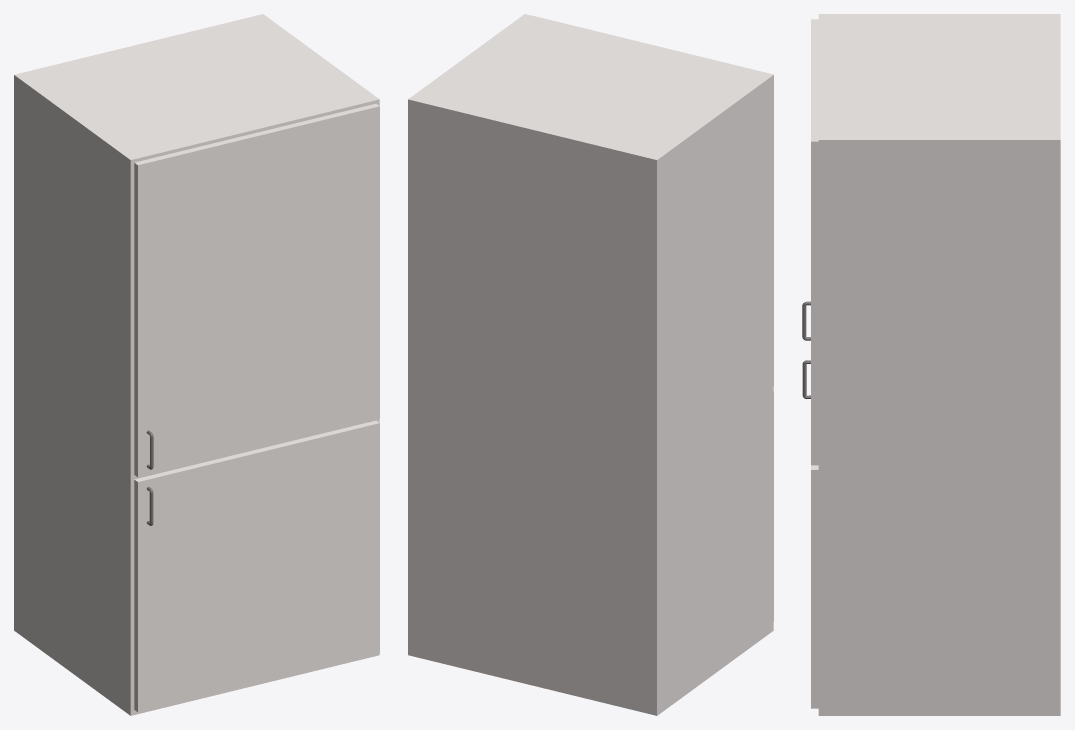
File: Fridge.fbx
3 views of the same model, side by side, from view 1: azimuth 30°, elevation 25°; view 2: azimuth 150°, elevation 25°; view 3: azimuth 270°, elevation 25° (orthographic). The views are drawn at different scales.
Parts seen in each view (by area): view 1: Fridge; view 2: Fridge; view 3: Fridge.
Part boxes in pixels (box(x1,y1,x2,y2)): Fridge: box(14, 14, 379, 715); Fridge: box(408, 14, 773, 715); Fridge: box(802, 14, 1060, 715).
Size of the model in its own units: 94.13 by 201 by 81.54.
